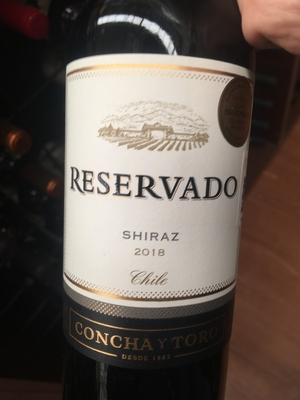reservado shiraz: (63, 17, 255, 400)
